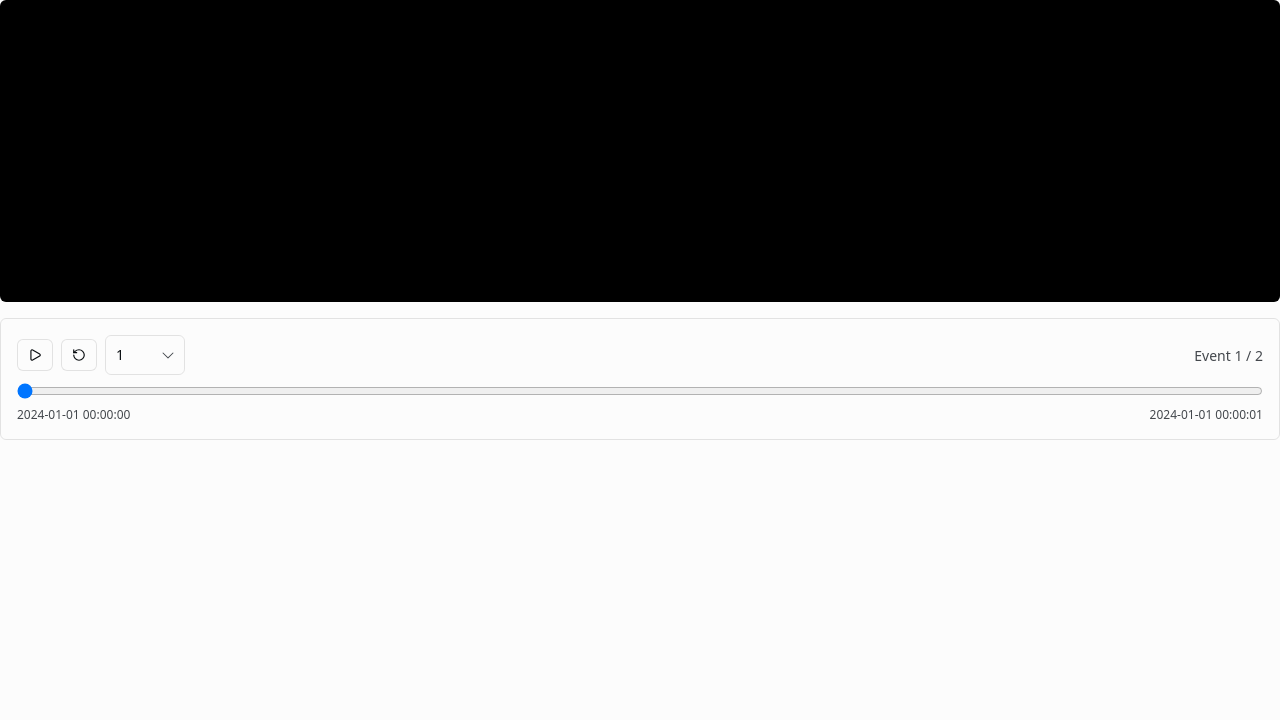
it: RecordingPlayer › should render file events panel when organizationId, sessionId, and file events exist
Click the button named "Play" at point(35, 355), box [17,339,53,371]
Wait 1000 ms
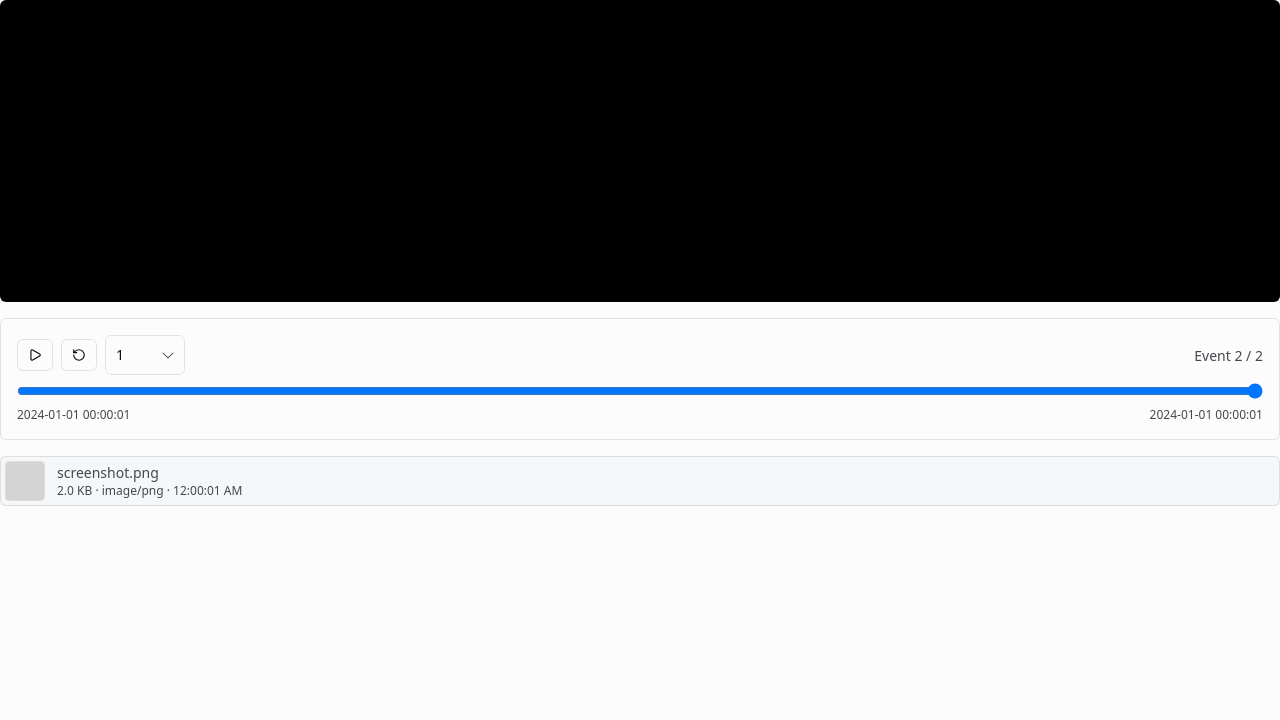
Expected: the element with test id "recording-file-marker" is shown, [0,456,1279,506]
